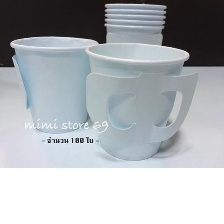paper_cup: (79, 37, 203, 164), (6, 31, 102, 137), (99, 0, 169, 76)
